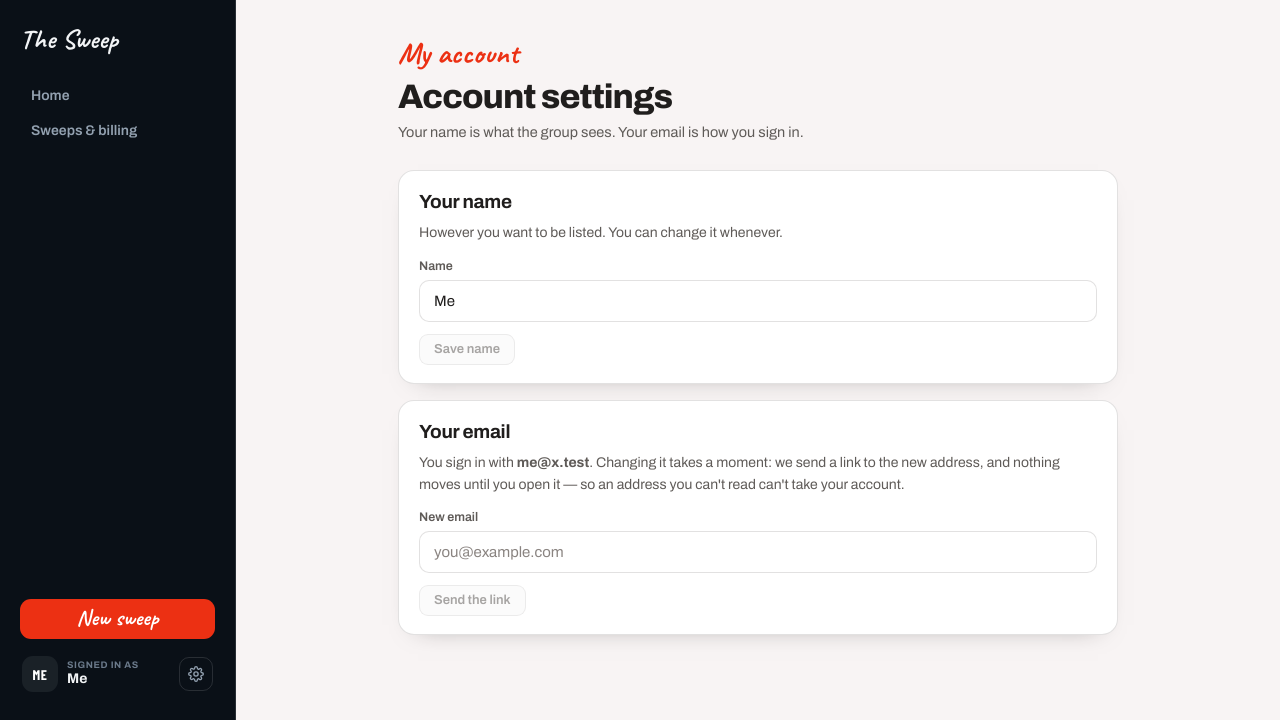
an address another account holds is reported as such
The width and height of the screenshot is (1280, 720).
Type "taken@x.test" into the field labelled "New email" at (758, 552), box [419,531,1097,573]
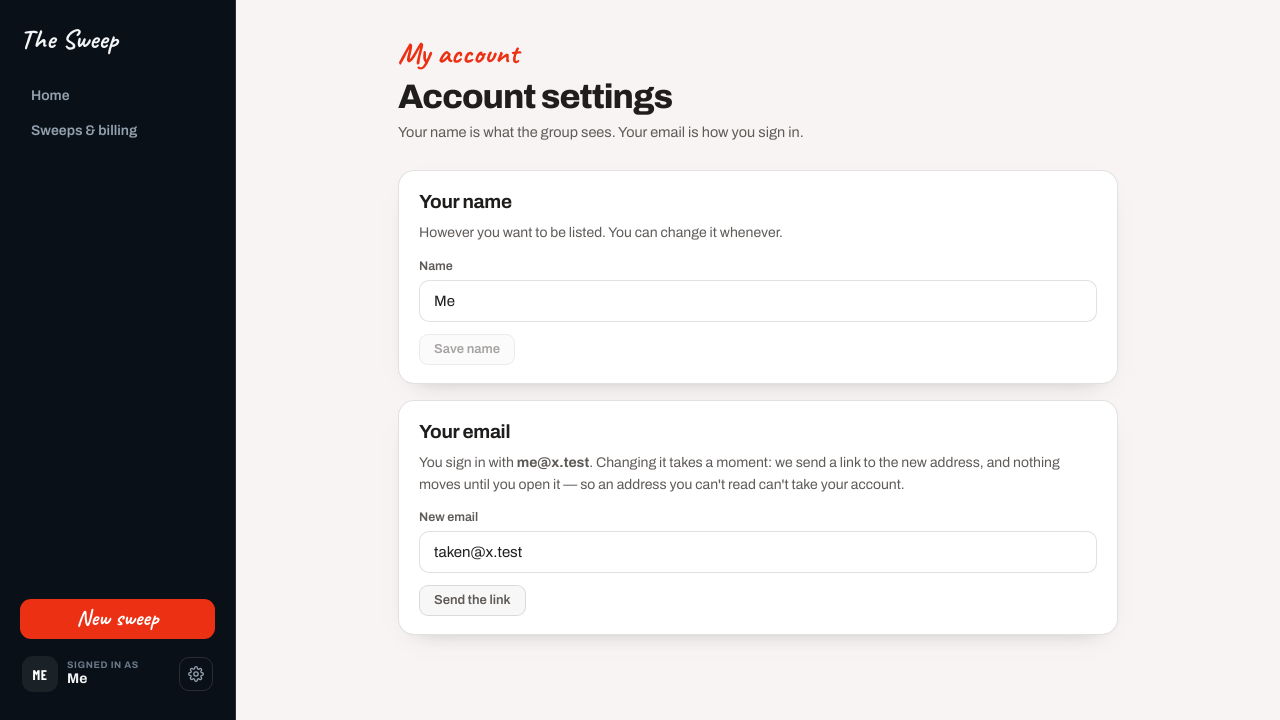
Click the button "Send the link" at (472, 601), box [419,585,526,616]
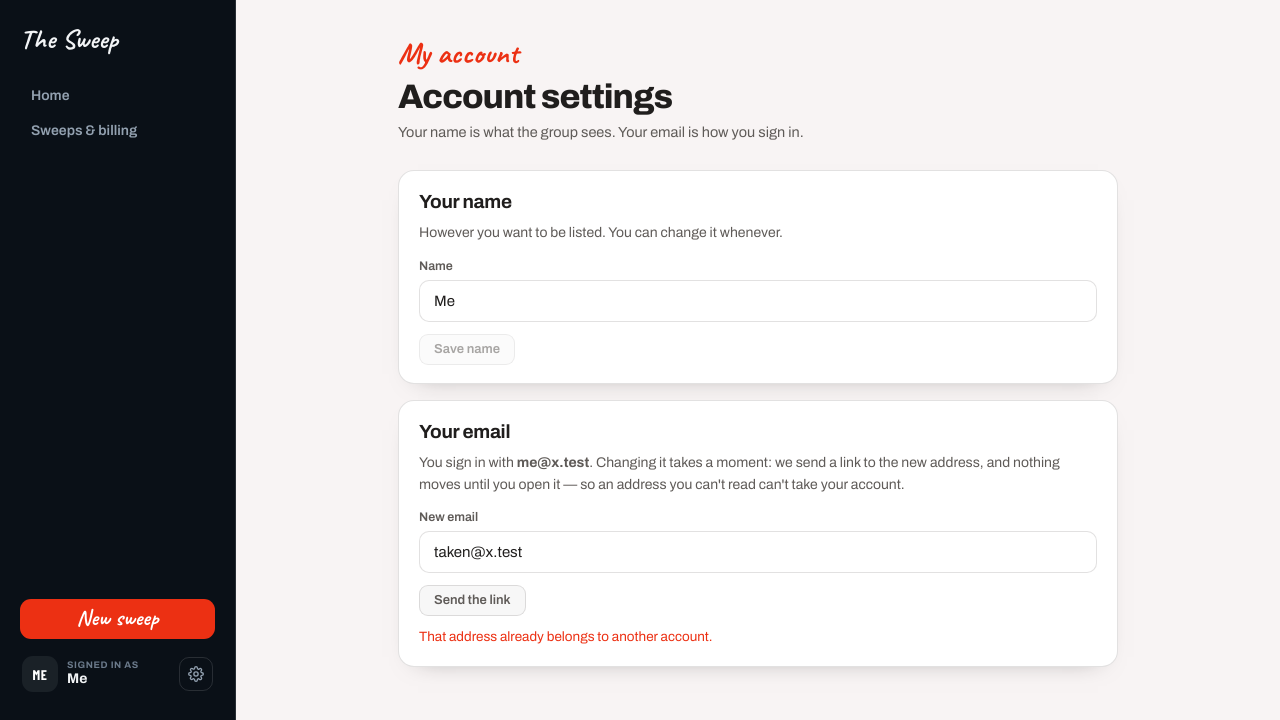
Check: the text "That address already belongs to another account." is shown, box [419,629,713,644]
